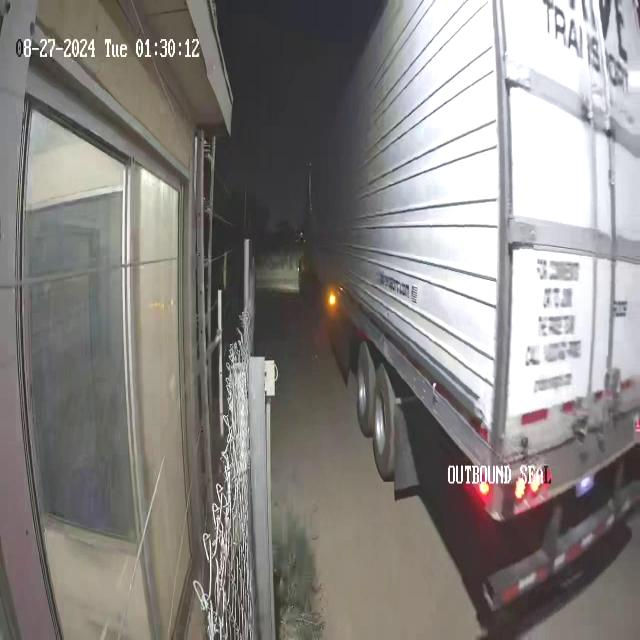CONTAINER: (306, 1, 639, 491)
